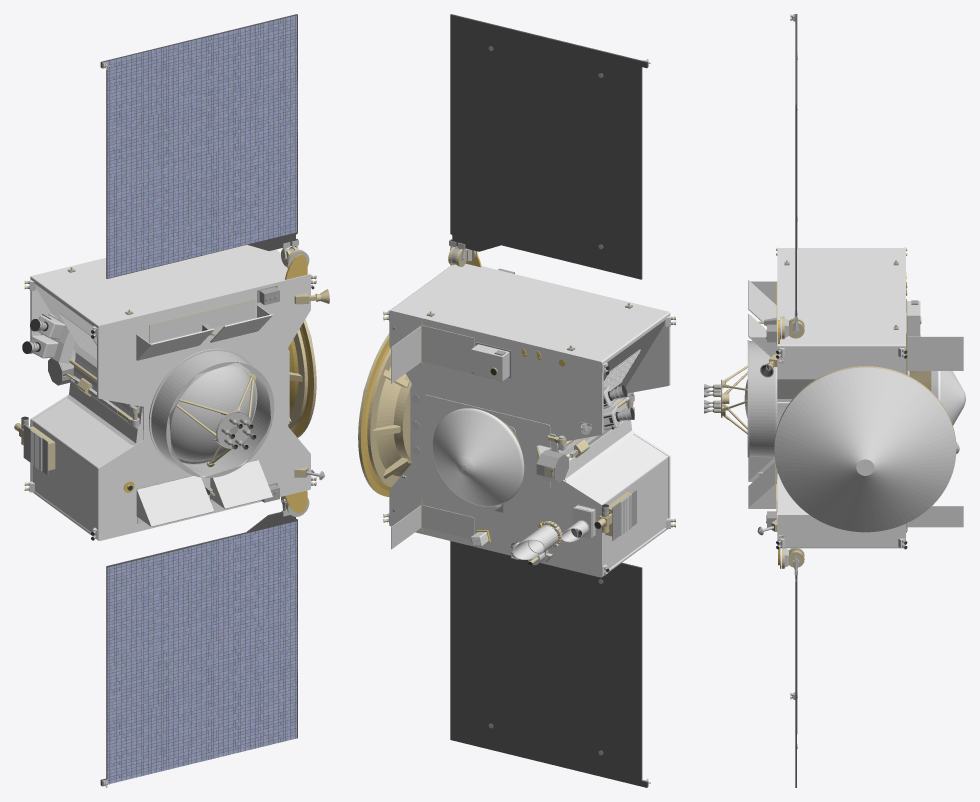
File: OSIRIS-REx.fbx
3 renders of one model, left to right at view 1: azimuth 30°, elevation 25°; view 2: azimuth 150°, elevation 25°; view 3: azimuth 270°, elevation 25°, orthographic. The views are drawn at different scales.
Visible parts, largest first — view 1: imagetostl_mesh28, imagetostl_mesh15, imagetostl_mesh19, imagetostl_mesh21, imagetostl_mesh18, imagetostl_mesh20, imagetostl_mesh23, imagetostl_mesh17, imagetostl_mesh22, imagetostl_mesh29, imagetostl_mesh16, imagetostl_mesh2 (+11 smaller); view 2: imagetostl_mesh15, imagetostl_mesh28, imagetostl_mesh38, imagetostl_mesh29, imagetostl_mesh27, imagetostl_mesh34, imagetostl_mesh24, imagetostl_mesh7, imagetostl_mesh10, imagetostl_mesh35; view 3: imagetostl_mesh40, imagetostl_mesh28, imagetostl_mesh29, imagetostl_mesh4, imagetostl_mesh7, imagetostl_mesh15, imagetostl_mesh38, imagetostl_mesh26.
Part boxes in pixels (box(x1,y1,x2,y2)): imagetostl_mesh28: box(30, 245, 310, 540); imagetostl_mesh15: box(100, 14, 297, 785); imagetostl_mesh19: box(107, 19, 297, 781); imagetostl_mesh21: box(107, 17, 297, 783); imagetostl_mesh18: box(107, 20, 297, 779); imagetostl_mesh20: box(107, 16, 297, 780); imagetostl_mesh23: box(107, 17, 297, 777); imagetostl_mesh17: box(107, 20, 297, 782); imagetostl_mesh22: box(107, 15, 296, 783); imagetostl_mesh29: box(27, 274, 313, 538); imagetostl_mesh16: box(107, 22, 296, 778); imagetostl_mesh2: box(170, 366, 256, 463); imagetostl_mesh15: box(450, 14, 647, 787); imagetostl_mesh28: box(389, 263, 670, 577); imagetostl_mesh38: box(432, 408, 524, 506); imagetostl_mesh29: box(386, 310, 673, 575); imagetostl_mesh27: box(367, 348, 411, 487); imagetostl_mesh34: box(414, 325, 640, 545); imagetostl_mesh24: box(426, 304, 640, 540); imagetostl_mesh7: box(358, 247, 632, 563); imagetostl_mesh10: box(361, 338, 391, 496); imagetostl_mesh35: box(402, 59, 650, 783); imagetostl_mesh40: box(774, 367, 956, 532); imagetostl_mesh28: box(777, 248, 905, 548); imagetostl_mesh29: box(748, 280, 963, 548); imagetostl_mesh4: box(747, 340, 775, 457); imagetostl_mesh7: box(712, 260, 956, 568); imagetostl_mesh15: box(795, 14, 797, 787); imagetostl_mesh38: box(931, 371, 965, 425); imagetostl_mesh26: box(704, 14, 906, 748).
Size of the model in its own units: 8333 by 21039 by 7291.
